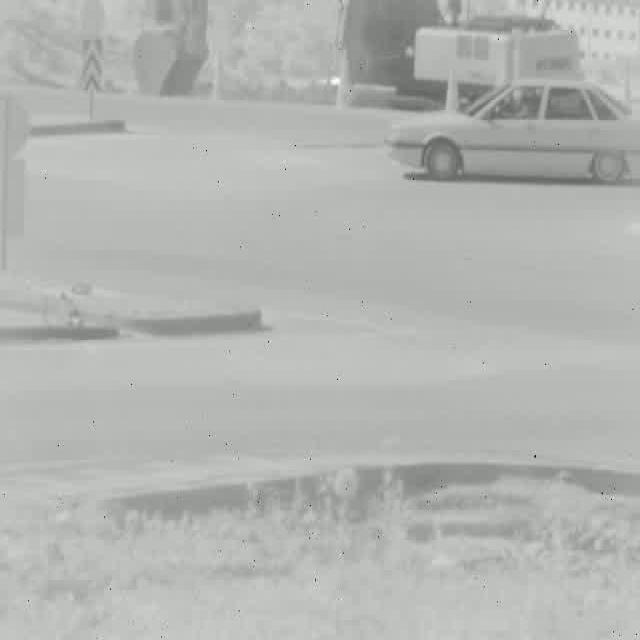Car: (388, 81, 640, 180)
